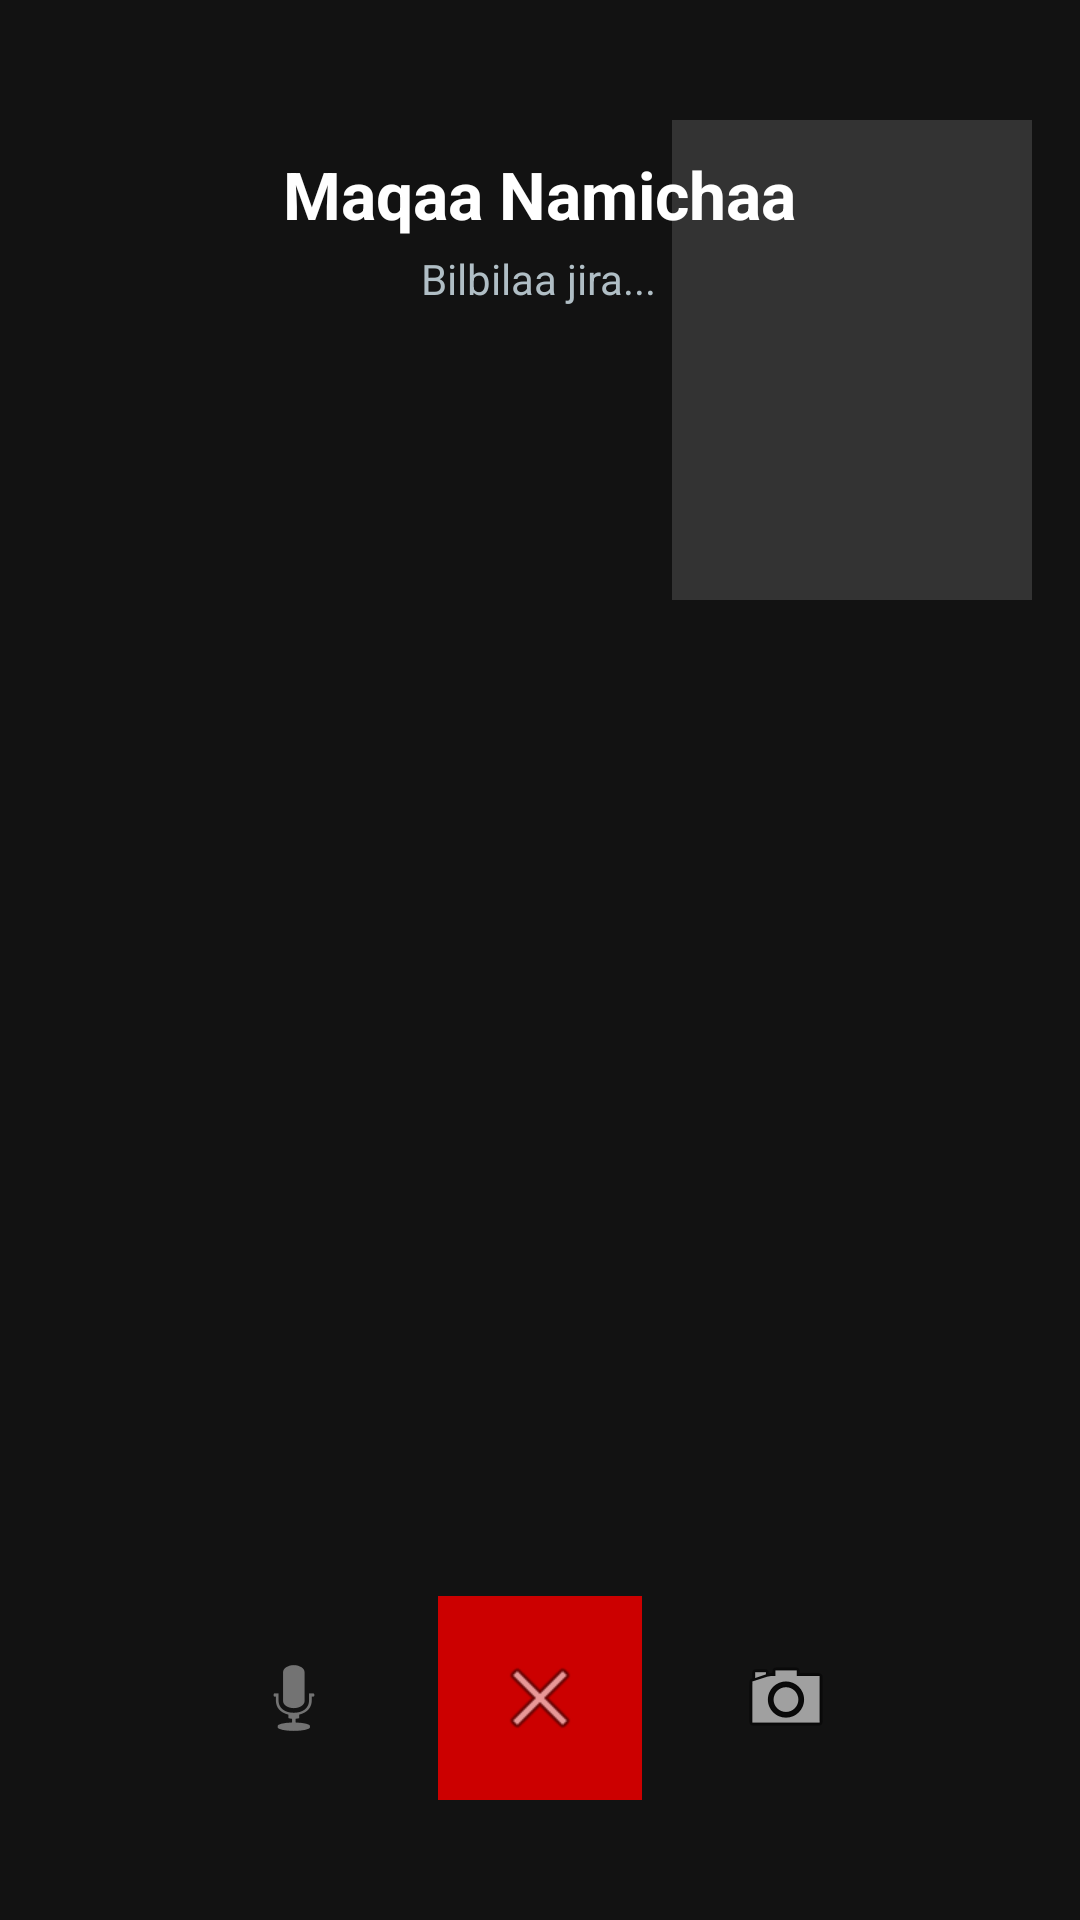

Named icons in this screenshot (1080w x 1920h) and their bounding boxes, (x1, y1, x2, y2):
End Call: (438, 1596, 642, 1800)
Mute: (273, 1665, 315, 1731)
Switch Camera: (752, 1670, 820, 1723)
